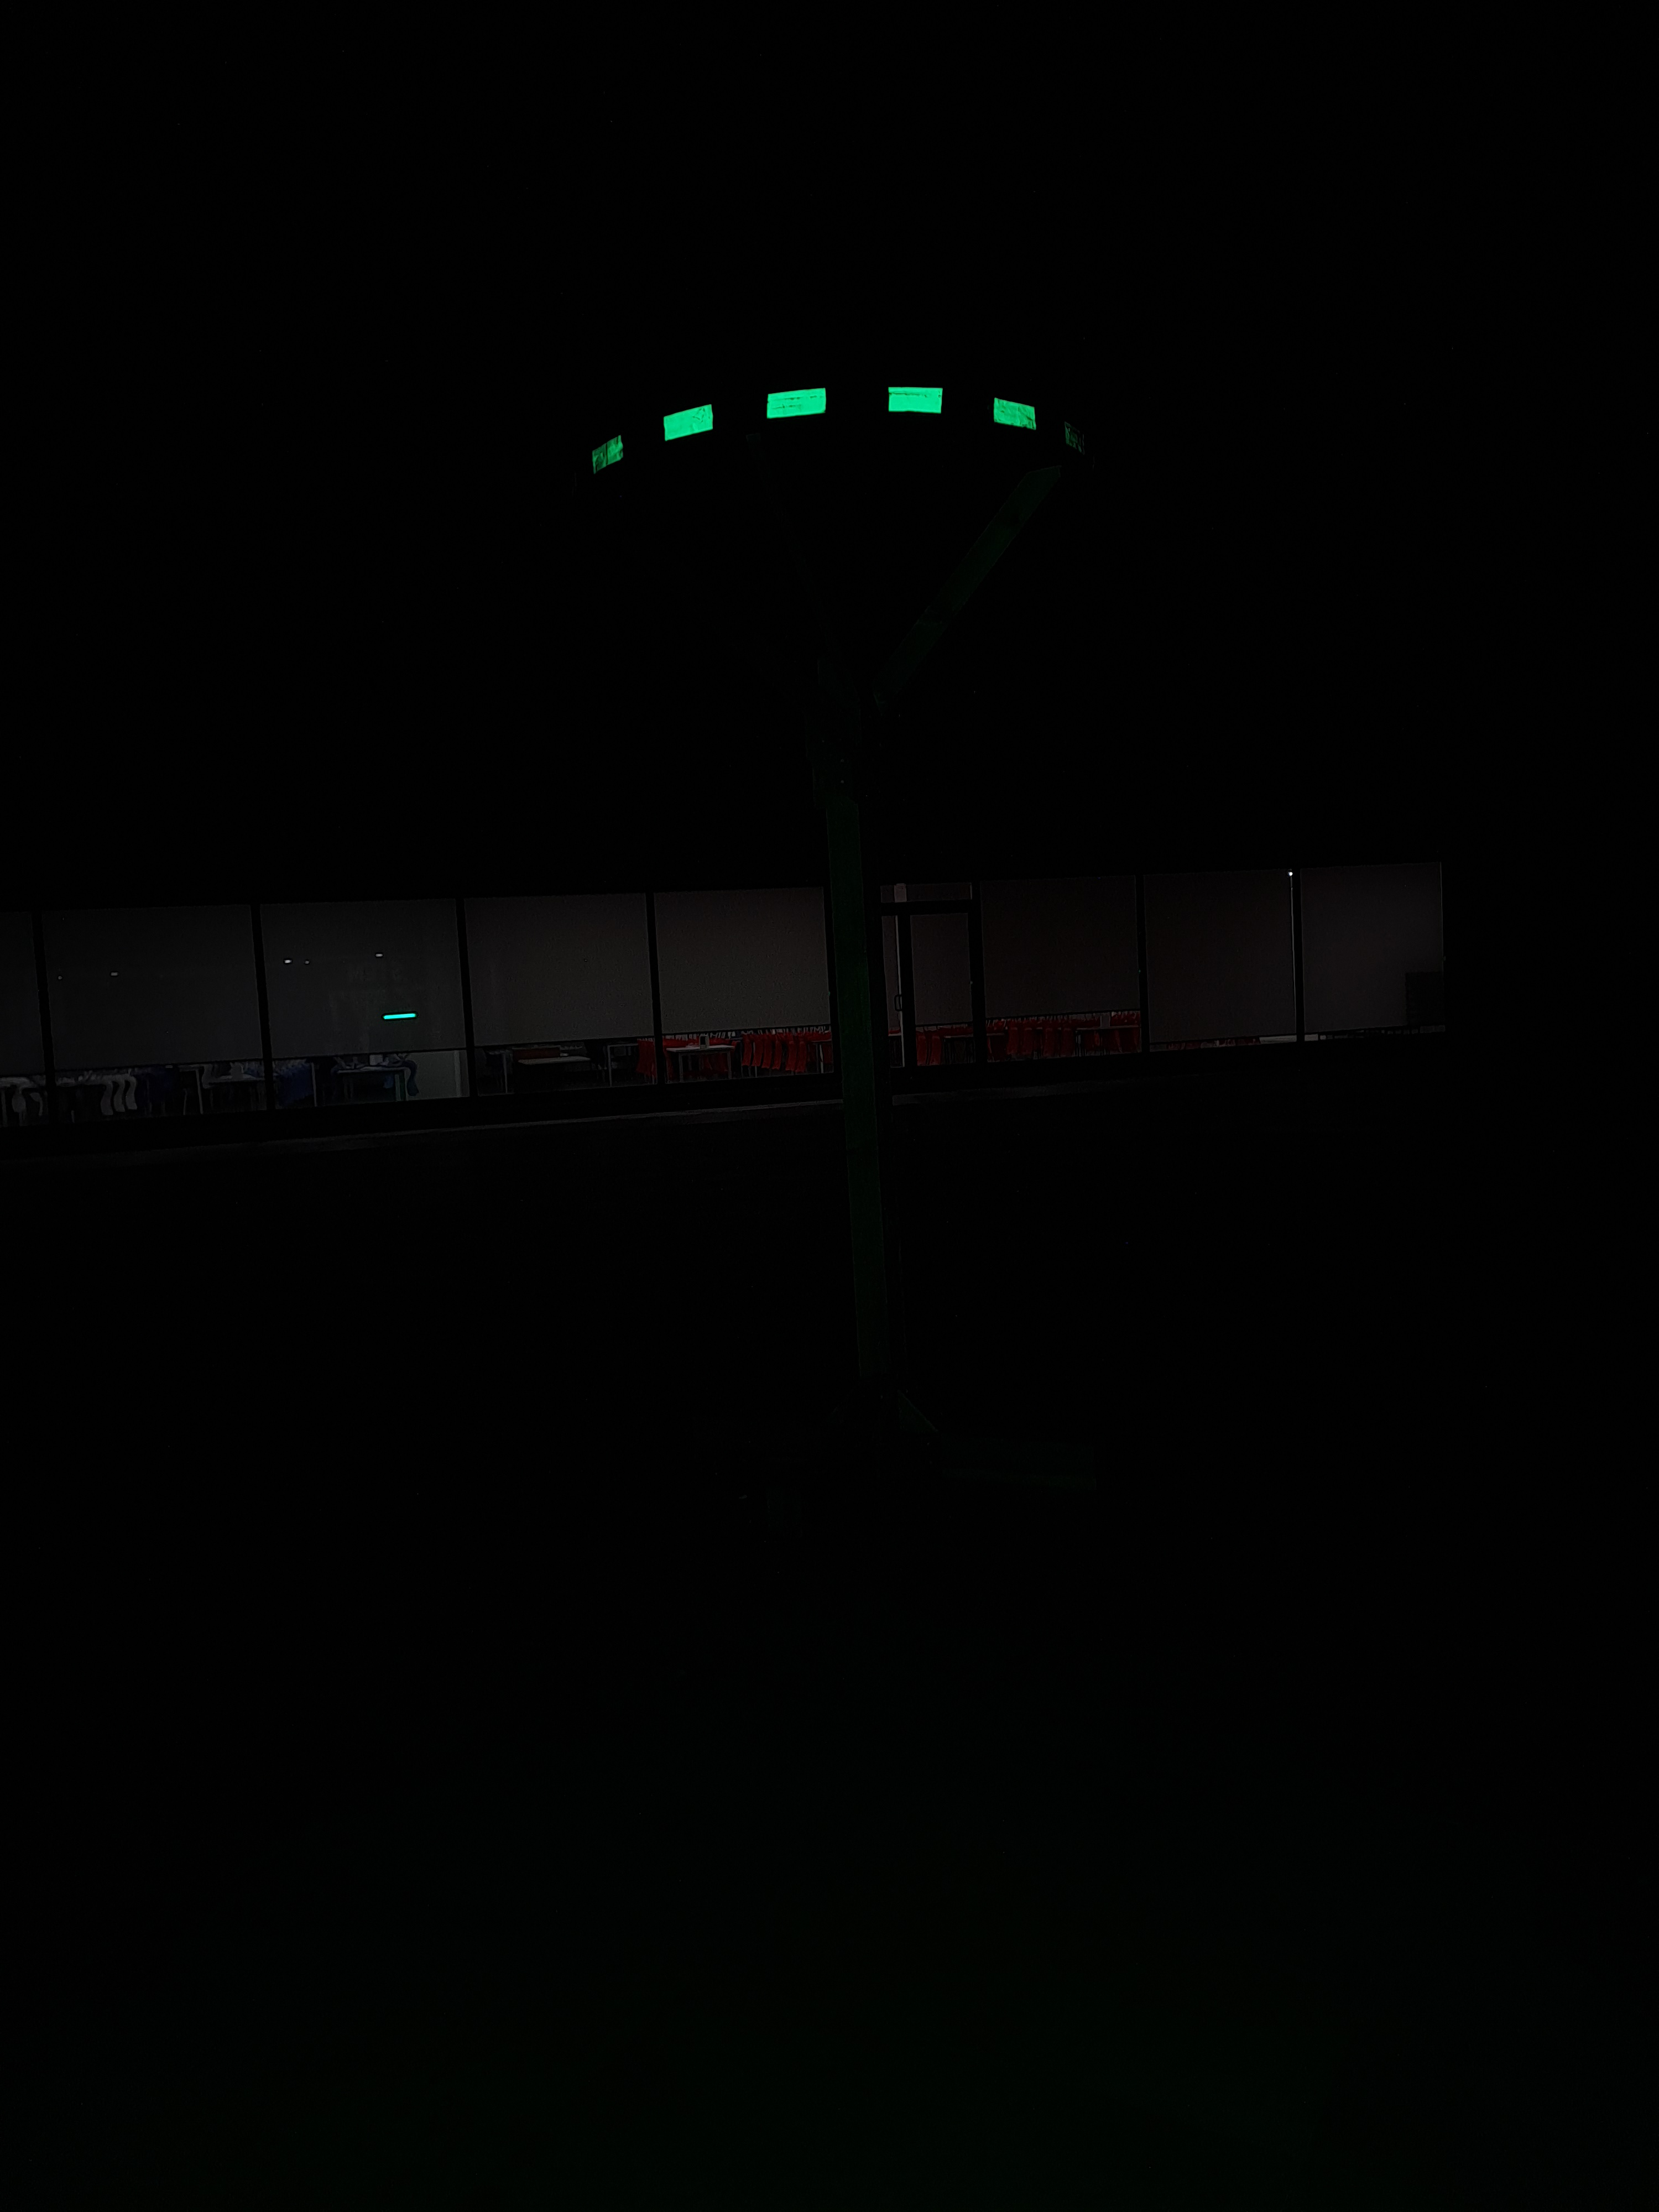hoop: (568, 385, 1053, 479)
